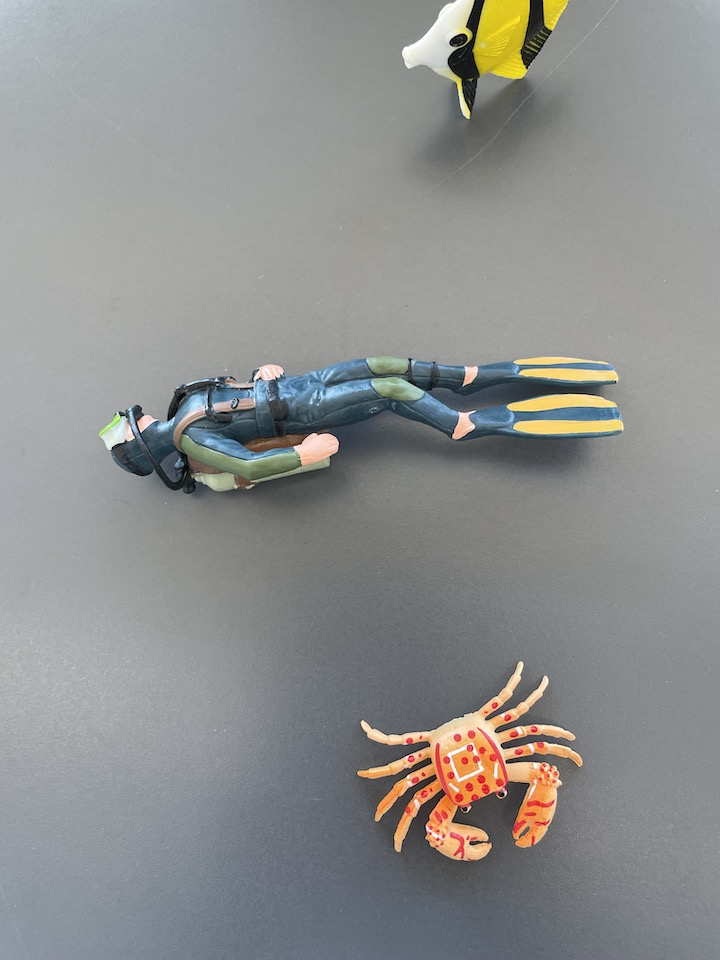crab: (353, 658, 595, 867)
danger: (396, 1, 578, 128)
diver: (91, 350, 631, 494)
